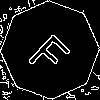F: (25, 25, 79, 79)
